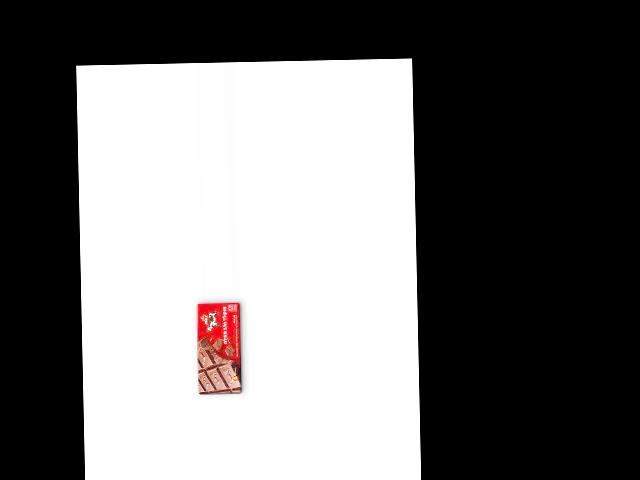chocolate: (194, 299, 245, 396)
